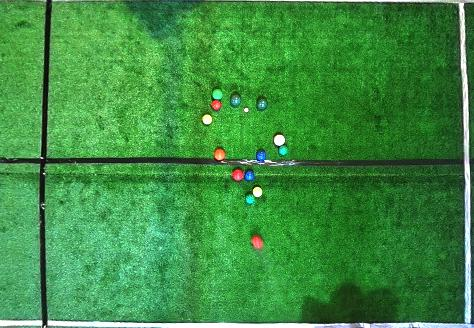blue: (245, 170, 255, 181), (256, 150, 266, 161)
green: (211, 88, 223, 100), (230, 94, 241, 107), (257, 98, 268, 111), (244, 193, 255, 205), (278, 145, 288, 156)
red: (273, 134, 286, 147), (252, 234, 263, 249), (232, 168, 244, 181), (214, 148, 226, 161), (211, 100, 222, 110)
vline: (1, 0, 54, 327), (455, 0, 473, 328)
white: (243, 107, 249, 113)
yellow: (202, 114, 213, 125), (253, 187, 263, 198)
